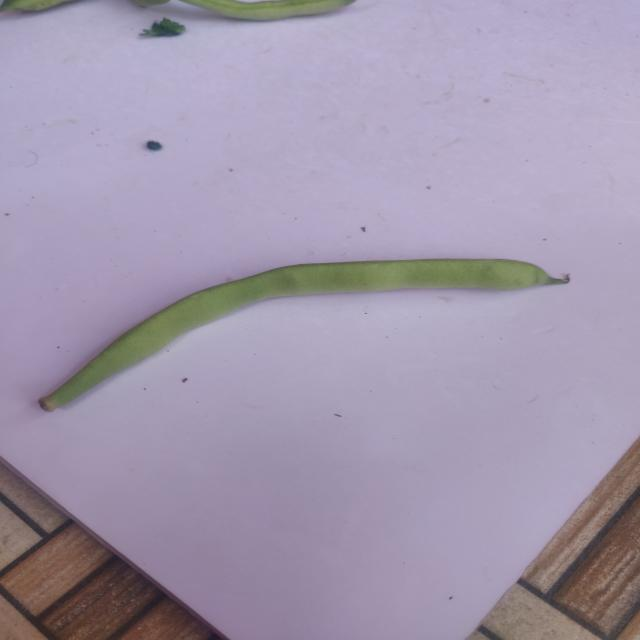Beans: (24, 242, 590, 429)
